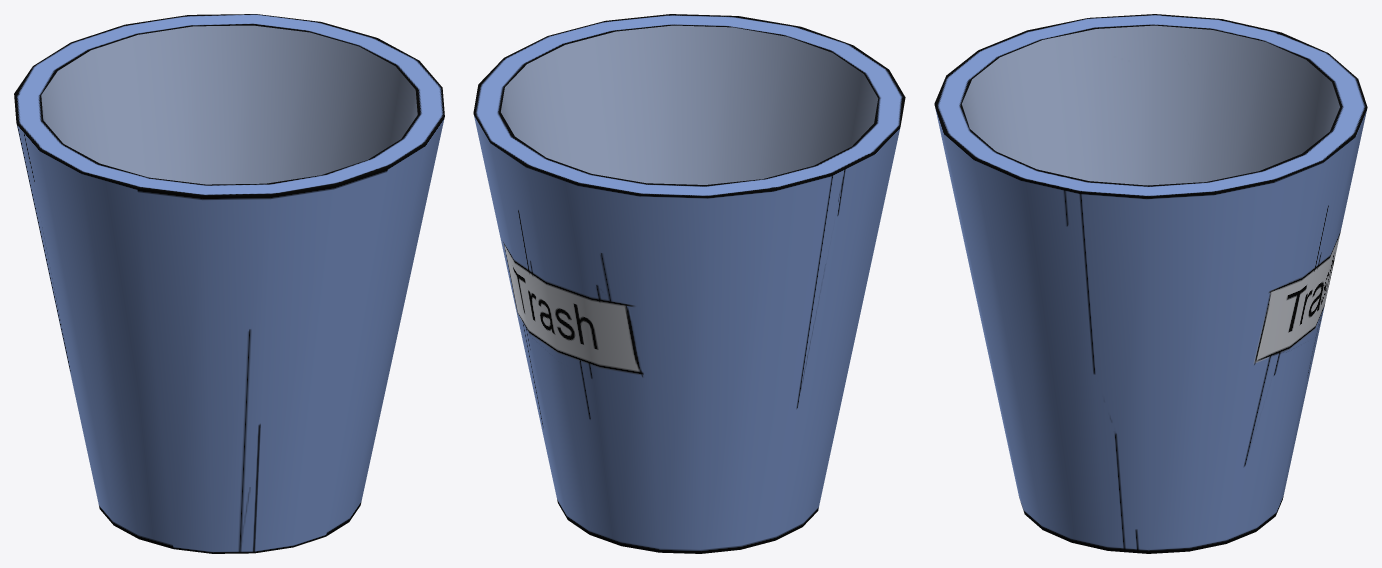
The model's file is bin.fbx.
3 views of the same model, side by side, from view 1: azimuth 30°, elevation 25°; view 2: azimuth 150°, elevation 25°; view 3: azimuth 270°, elevation 25° (orthographic).
Parts seen in each view (by area): view 1: bin; view 2: bin; view 3: bin.
Part boxes in pixels (x1,y1,x2,y2): bin: (14, 14, 444, 553); bin: (473, 14, 905, 553); bin: (934, 14, 1367, 553).
Size of the model in its own units: 0.5531 by 0.5532 by 0.5531.
